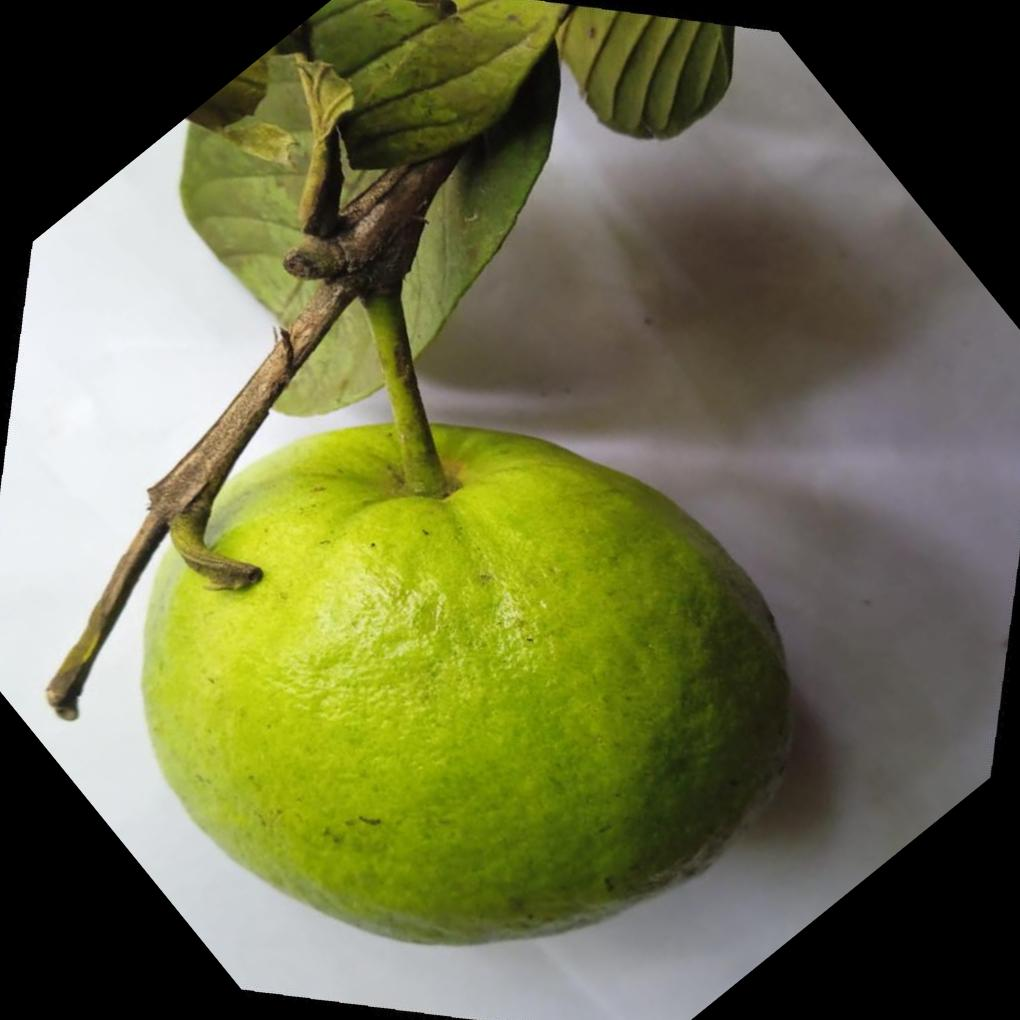FreshGuava: (140, 188, 797, 946)
